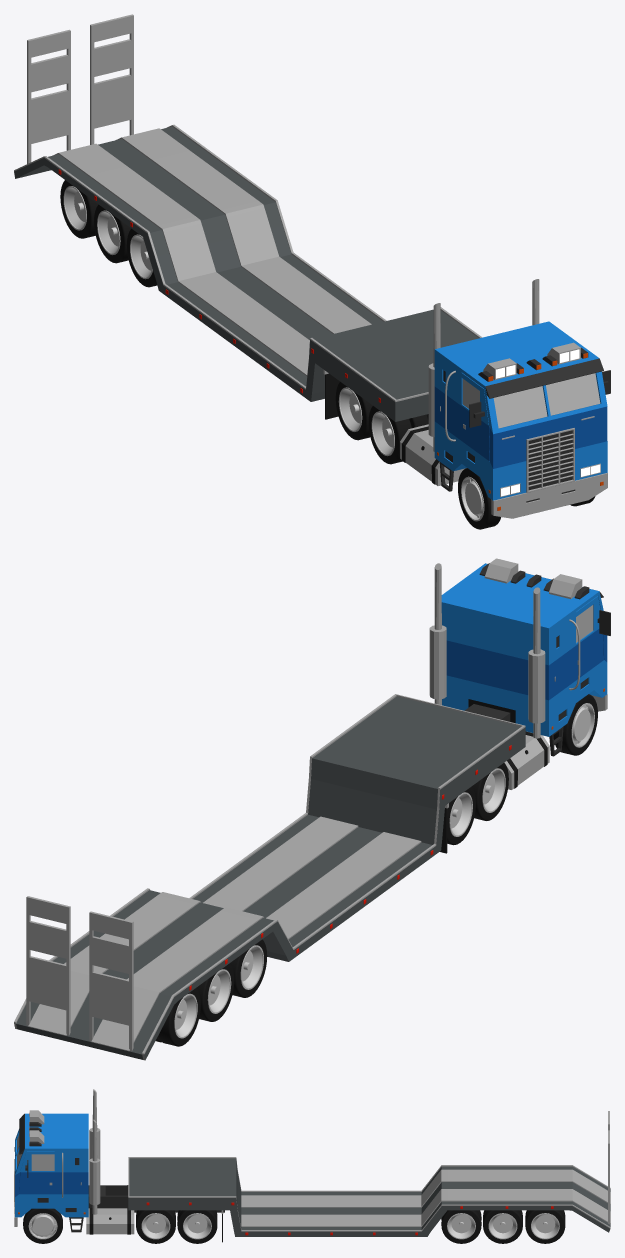
File: HeavyHauler.glb
3 views of the same model, one above another, from view 1: azimuth 30°, elevation 25°; view 2: azimuth 150°, elevation 25°; view 3: azimuth 270°, elevation 25° (orthographic). The views are drawn at different scales.
Visible parts, largest first — view 1: Cube.023, Truck back 2, Cube, Cube.022, Cube.003, Cube.024, Cube.025, Cube.035, Cube.026, Cube.001, Cylinder.010, Cylinder.009 (+10 smaller); view 2: Truck back 2, Cube.023, Cube, Cube.022, Cube.003, Cube.024, Cube.025, Cube.026, Cylinder.010, Cylinder.009, Cylinder.003, Cylinder.004 (+6 smaller); view 3: Cube.023, Truck back 2, Cube, Cube.022, Cube.026, Cylinder.009, Cylinder.010, Cube.003, Cylinder.024, Cylinder.001, Cube.020, Cube.032 (+7 smaller).
Boxes of the visible parts, box(x1,y1,x2,y2) form: Cube.023: box(53, 128, 371, 376); Truck back 2: box(51, 129, 478, 399); Cube: box(434, 321, 607, 500); Cube.022: box(14, 126, 428, 421); Cube.003: box(434, 386, 607, 468); Cube.024: box(27, 29, 70, 163); Cube.025: box(90, 14, 133, 144); Cube.035: box(462, 373, 600, 428); Cube.026: box(14, 124, 482, 401); Cube.001: box(491, 473, 607, 518); Cylinder.010: box(63, 186, 152, 279); Cylinder.009: box(60, 180, 157, 287); Truck back 2: box(53, 696, 520, 993); Cube.023: box(28, 816, 421, 1051); Cube: box(441, 563, 607, 736); Cube.022: box(16, 727, 525, 1059); Cube.003: box(446, 629, 607, 700); Cube.024: box(89, 911, 133, 1051); Cube.025: box(26, 896, 70, 1035); Cube.026: box(14, 694, 525, 1060); Cylinder.010: box(174, 945, 263, 1038); Cylinder.009: box(155, 939, 267, 1046); Cylinder.003: box(528, 587, 545, 738); Cylinder.004: box(429, 563, 446, 705); Cube.023: box(241, 1169, 610, 1226); Truck back 2: box(129, 1158, 567, 1229); Cube: box(15, 1113, 88, 1217); Cube.022: box(128, 1166, 610, 1236); Cube.026: box(128, 1157, 610, 1231); Cylinder.009: box(441, 1210, 565, 1243); Cylinder.010: box(447, 1213, 559, 1239); Cube.003: box(15, 1172, 88, 1196); Cylinder.024: box(136, 1210, 217, 1243); Cylinder.001: box(141, 1213, 211, 1239); Cube.020: box(86, 1208, 134, 1234); Cube.032: box(88, 1185, 224, 1212).
Bounding box in the file's own units: 3.74 × 4.93 × 21.71.
